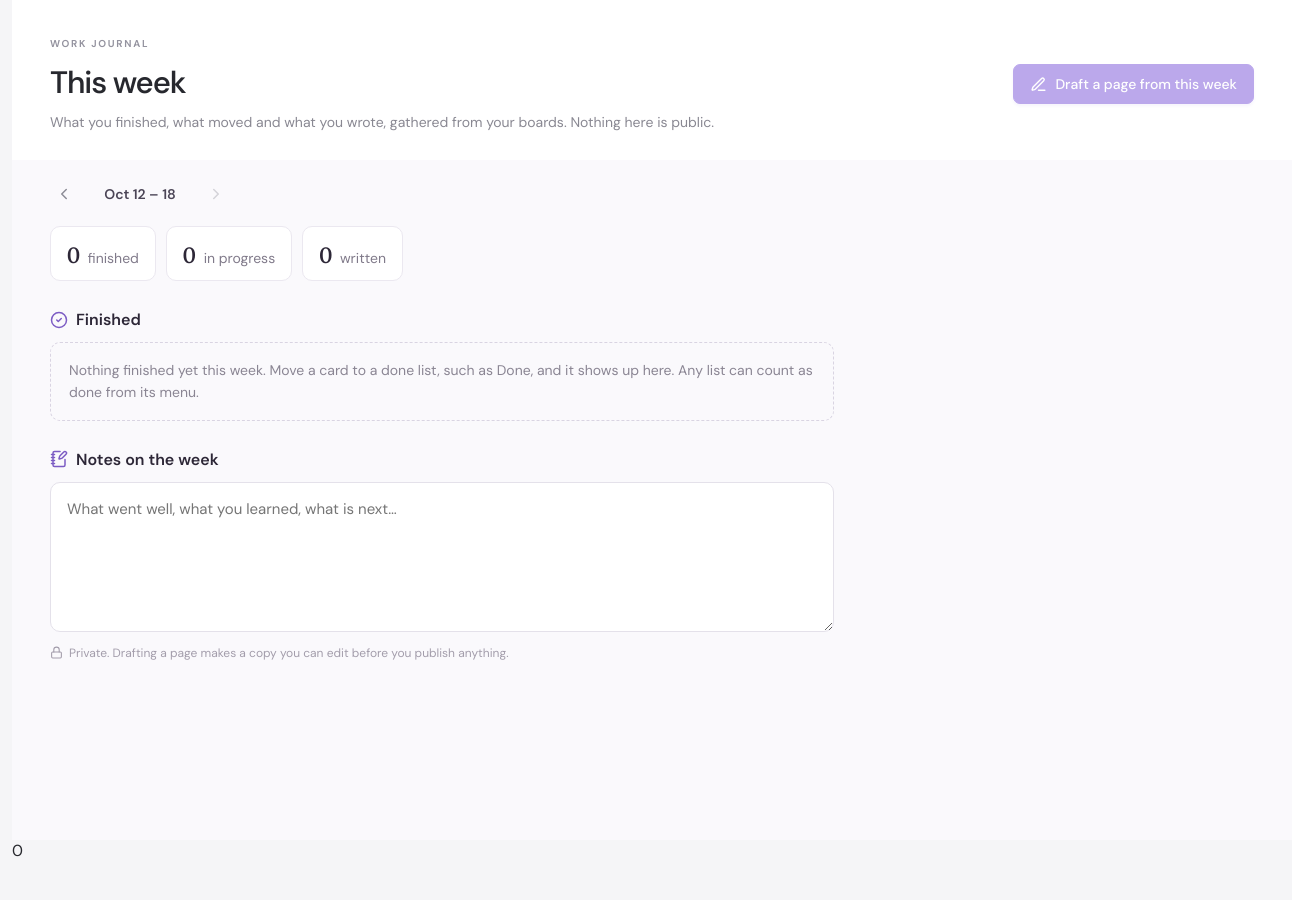
Test: work journal page › explains how cards get there, keeps notes, and drafts a private page
The image size is (1292, 900).
Expected: the heading "This week" is shown, top-left (50, 62), bottom-right (185, 103)
Expected: the text "Move a card to a done list" is shown, top-left (69, 361), bottom-right (813, 401)
Type "Shipped the landing page." into the text box labelled "Notes on the week". click: (442, 557)
box: top-left (50, 482), bottom-right (834, 632)
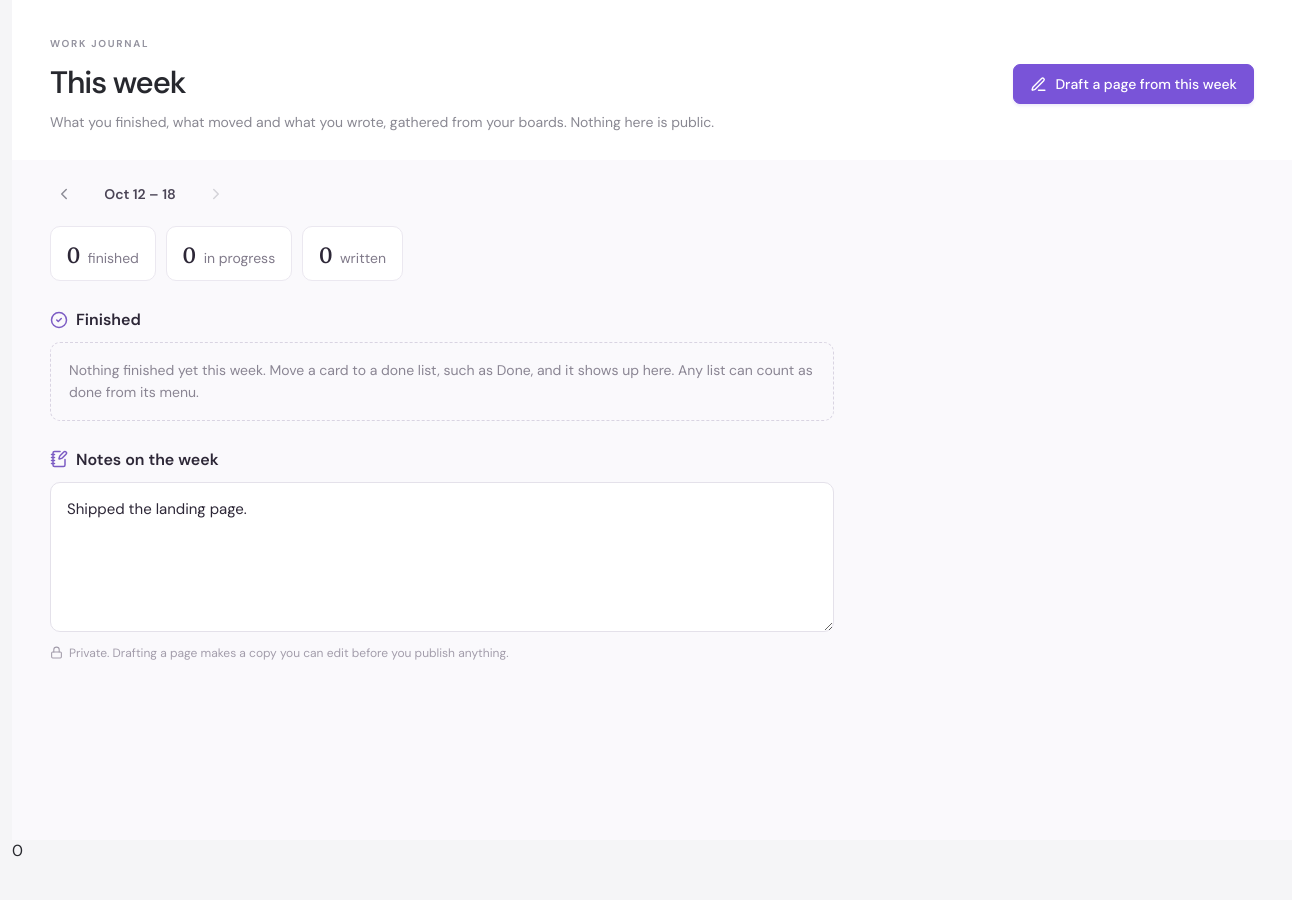
Expected: the button "Draft a page from this week" is enabled
Click the button "Draft a page from this week". click: (1134, 84)
box: top-left (1013, 64), bottom-right (1254, 104)
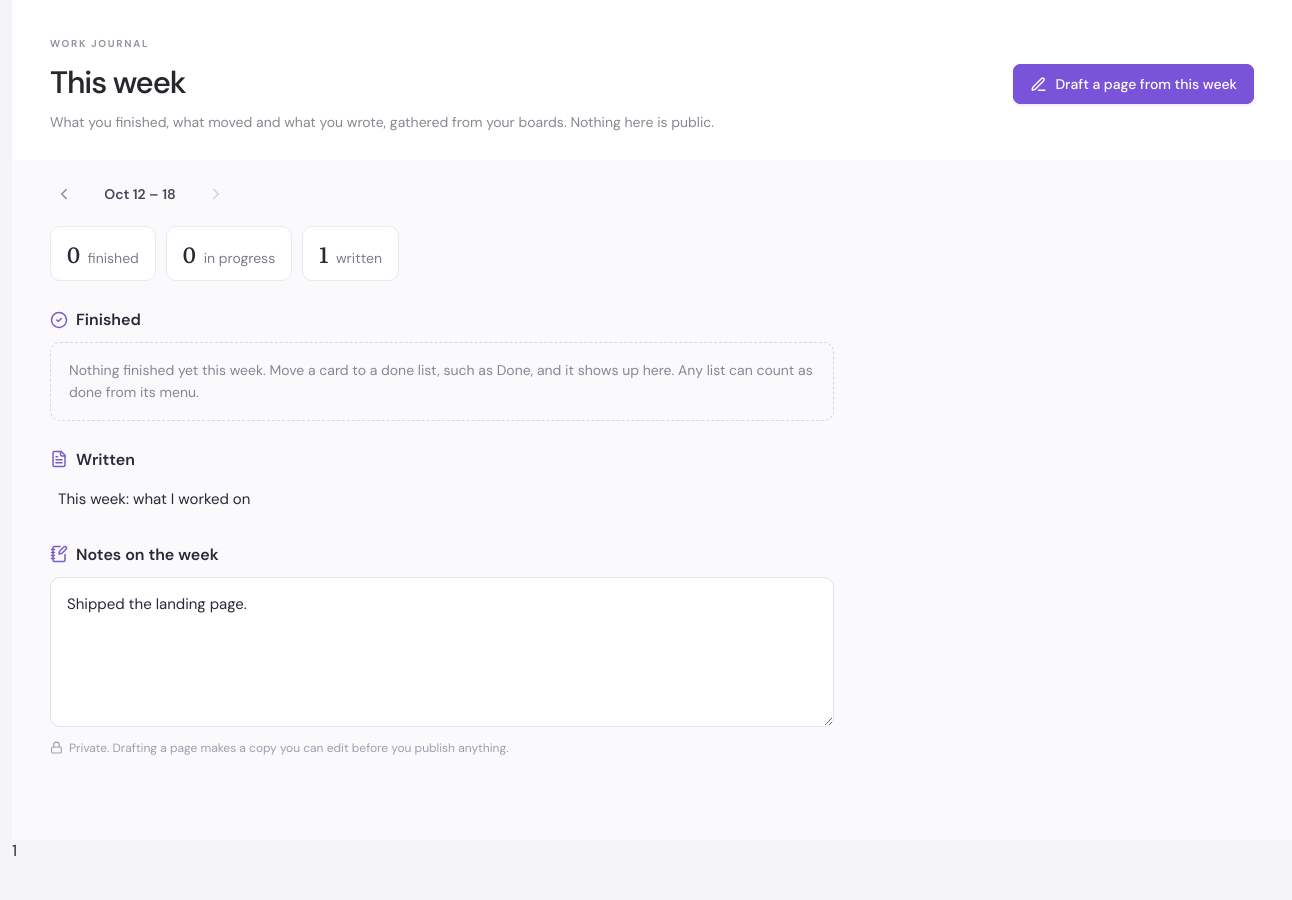
Expected: the text with test id "pages" reads "1", top-left (12, 840), bottom-right (17, 861)
